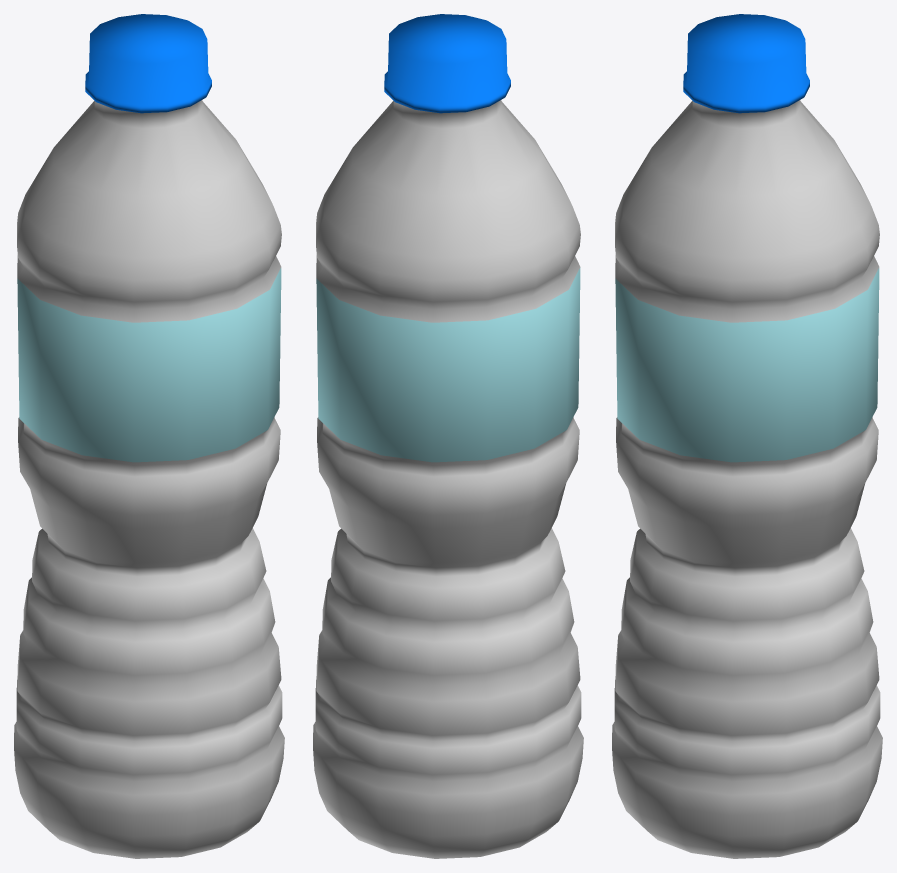
Rendered from water_model.glb.
3 views of the same model, side by side, from view 1: azimuth 30°, elevation 25°; view 2: azimuth 150°, elevation 25°; view 3: azimuth 270°, elevation 25° (orthographic).
Visible parts, largest first — view 1: Botella; view 2: Botella; view 3: Botella.
Part boxes in pixels (x1,y1,x2,y2): Botella: (14, 14, 284, 858); Botella: (313, 14, 583, 858); Botella: (612, 14, 882, 858).
Bounding box in the file's own units: 0.4325 × 1.38 × 0.4302.
